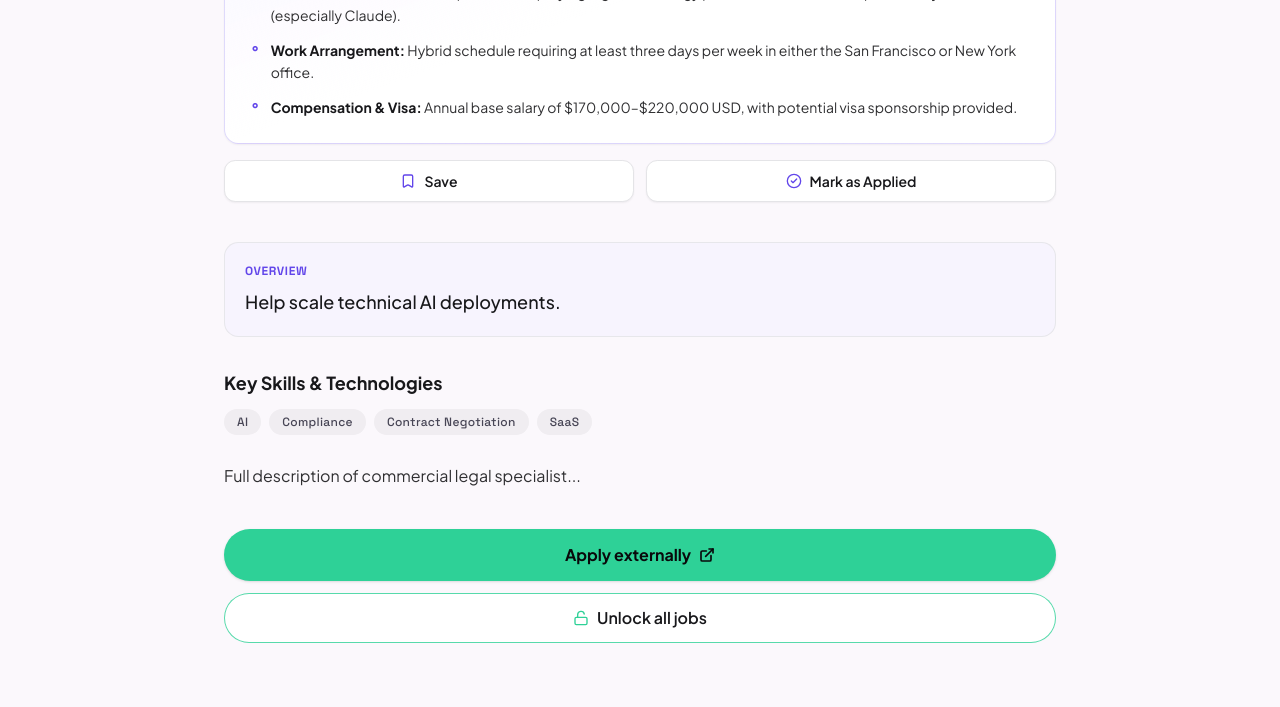
Test: Spec 0005: Post-Apply Shelf Seam › Apply button text changes to Applied state after clicking
(page scrolled)
Click the link with test id "primary-apply-button" at point(640, 555), box top-left (224, 529), bottom-right (1056, 581)
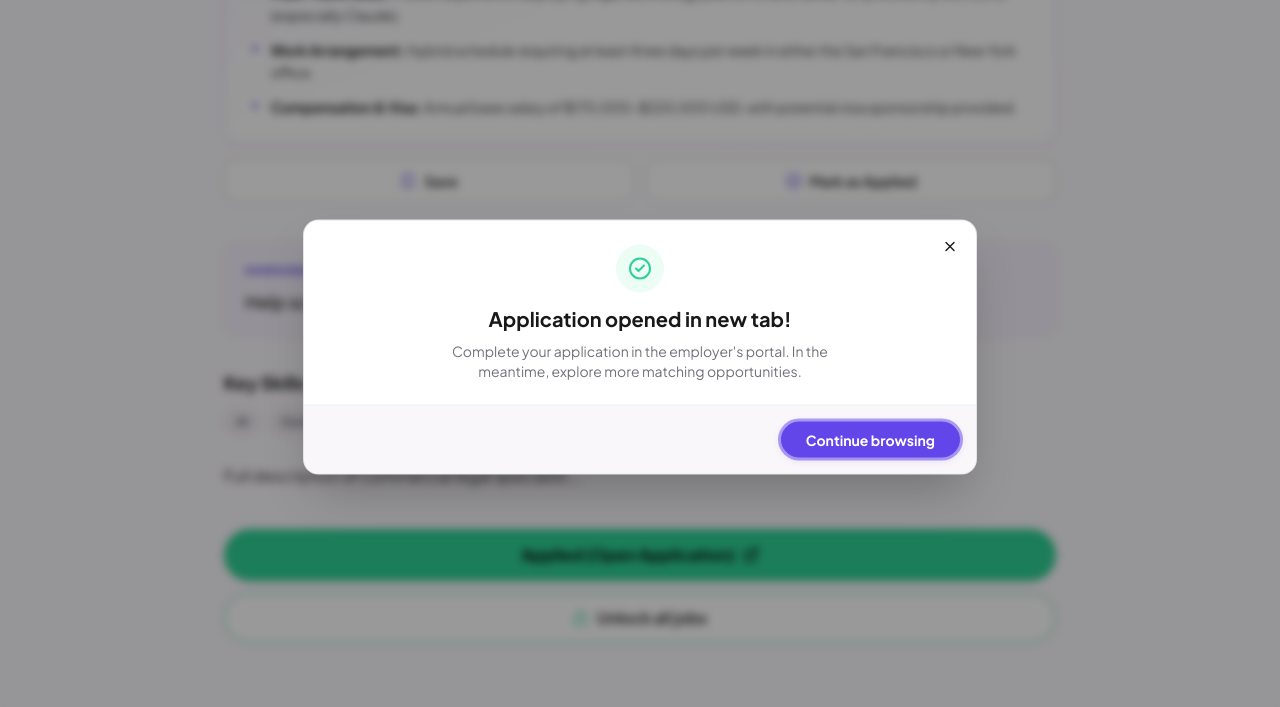
Now the link with test id "primary-apply-button" reads "Applied (Open Application)", box top-left (224, 529), bottom-right (1056, 581)
